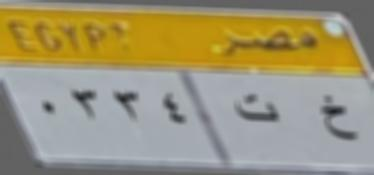3: (113, 83, 142, 132), (68, 85, 101, 124)
4: (156, 90, 188, 132)
khaa: (314, 92, 360, 146)
taa: (230, 84, 280, 128)
